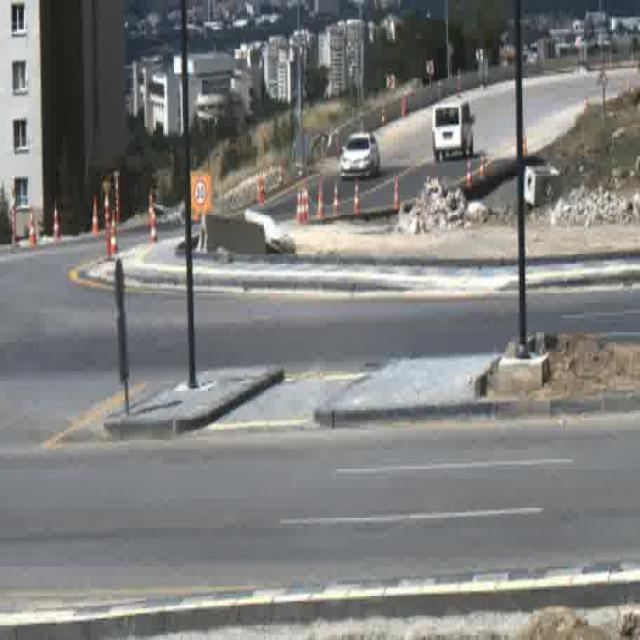Car: (431, 99, 473, 162), (339, 130, 379, 179)
